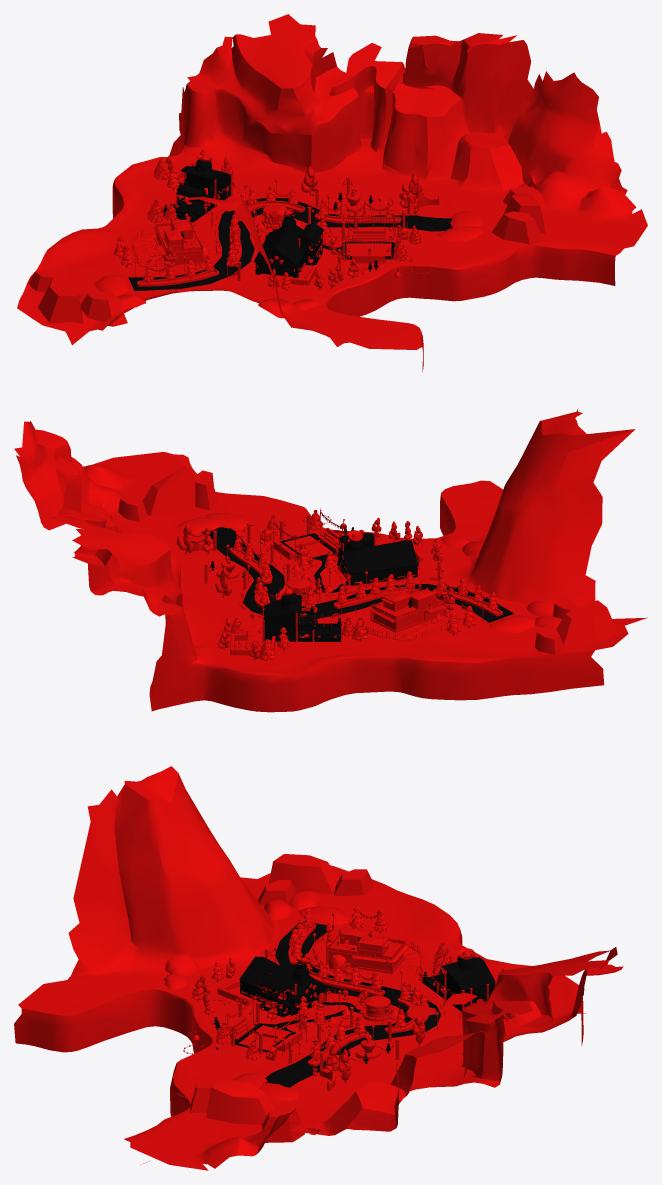
File: Individual_BeverlyChills_CincoDeMayo_01.glb
3 renders of one model, top to bottom at view 1: azimuth 30°, elevation 25°; view 2: azimuth 150°, elevation 25°; view 3: azimuth 270°, elevation 25°, orthographic. The views are drawn at different scales.
Parts seen in each view (by area): view 1: pasted__BeverlyChillsRoad_01, pasted__polySurface154, polySurface9, pasted__Object_RoadIslands, pasted__Object_IceRock4, pasted__Building_LuxuryHouse3, pasted__Object_IceRock8, pasted__Object_IceRock3, pasted__Object_IceRock6, pasted__Building_TennisCourt2, pasted__SnowPatch6, pasted__SnowPatch8 (+1 smaller); view 2: pasted__BeverlyChillsRoad_01, pasted__polySurface154, polySurface9, pasted__Building_LuxuryHouse3, pasted__Object_IceRock6, pasted__Object_IceRock4, pasted__Object_RoadIslands, pasted__Object_IceRock8, pasted__Object_IceRock5, pasted__Object_IceRock7, pasted__SnowPatch8, pasted__SnowPatch6 (+2 smaller); view 3: pasted__BeverlyChillsRoad_01, pasted__polySurface154, pasted__Object_IceRock6, pasted__Building_LuxuryHouse3, polySurface9, pasted__Object_IceRock4, pasted__Object_RoadIslands, pasted__Object_IceRock7, pasted__Object_IceRock5, pasted__Object_IceRock3, pasted__SnowPatch8, pasted__Building_RoundCoffeeShop1.
Part boxes in pixels (box(x1,y1,x2,y2)): pasted__BeverlyChillsRoad_01: box(17, 14, 647, 371); pasted__polySurface154: box(253, 214, 323, 277); polySurface9: box(163, 159, 230, 222); pasted__Object_RoadIslands: box(137, 201, 401, 286); pasted__Object_IceRock4: box(38, 277, 83, 323); pasted__Building_LuxuryHouse3: box(154, 220, 201, 264); pasted__Object_IceRock8: box(491, 211, 543, 244); pasted__Object_IceRock3: box(80, 291, 127, 326); pasted__Object_IceRock6: box(504, 192, 544, 233); pasted__Building_TennisCourt2: box(346, 243, 391, 256); pasted__SnowPatch6: box(437, 226, 484, 241); pasted__SnowPatch8: box(94, 274, 129, 296); pasted__BeverlyChillsRoad_01: box(14, 409, 647, 712); pasted__polySurface154: box(336, 533, 418, 585); polySurface9: box(263, 592, 341, 641); pasted__Building_LuxuryHouse3: box(372, 588, 443, 632); pasted__Object_IceRock6: box(142, 466, 196, 516); pasted__Object_IceRock4: box(556, 600, 617, 644); pasted__Object_RoadIslands: box(229, 547, 502, 616); pasted__Object_IceRock8: box(195, 470, 218, 510); pasted__Object_IceRock5: box(535, 626, 564, 654); pasted__Object_IceRock7: box(118, 493, 147, 522); pasted__SnowPatch8: box(489, 615, 535, 632); pasted__SnowPatch6: box(205, 513, 249, 529); pasted__BeverlyChillsRoad_01: box(14, 766, 623, 1170); pasted__polySurface154: box(239, 956, 329, 1017); pasted__Object_IceRock6: box(206, 1079, 275, 1124); pasted__Building_LuxuryHouse3: box(328, 927, 405, 973); polySurface9: box(422, 954, 495, 1011); pasted__Object_IceRock4: box(268, 854, 338, 893); pasted__Object_RoadIslands: box(288, 924, 428, 1066); pasted__Object_IceRock7: box(262, 1106, 304, 1142); pasted__Object_IceRock5: box(334, 869, 372, 895); pasted__Object_IceRock3: box(257, 880, 296, 905); pasted__SnowPatch8: box(298, 906, 349, 925); pasted__Building_RoundCoffeeShop1: box(359, 995, 392, 1021).
Size of the model in its own units: 119 by 33.84 by 104.
